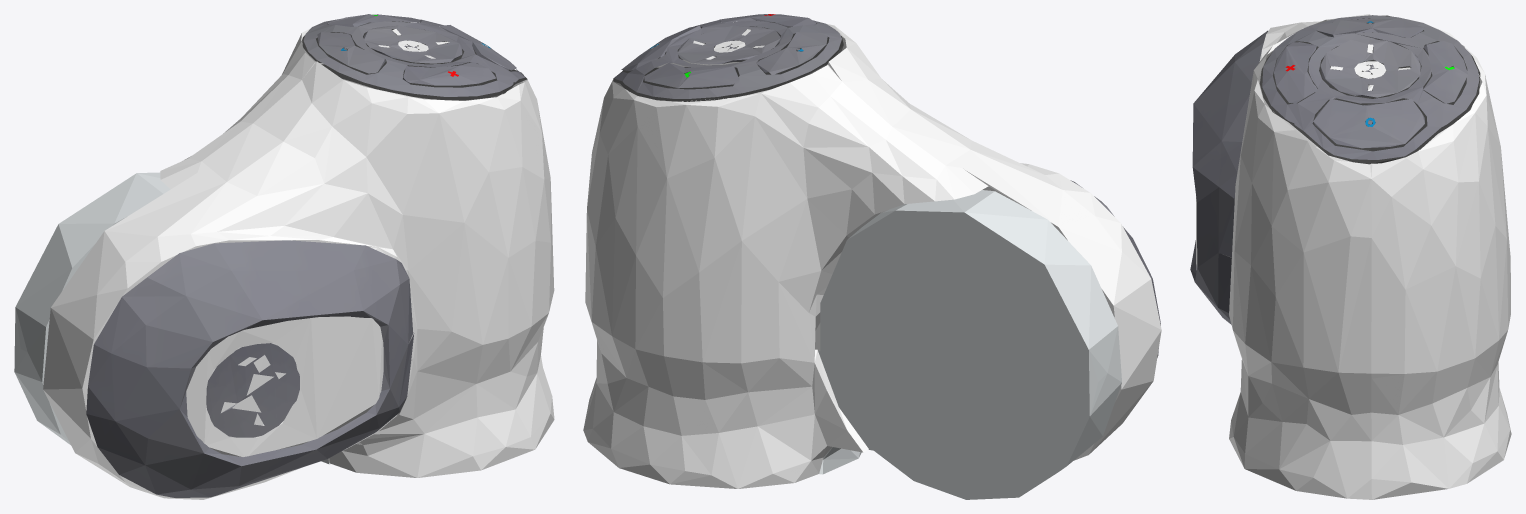
The picture shows the model from 3 angles, left to right: view 1: azimuth 30°, elevation 25°; view 2: azimuth 150°, elevation 25°; view 3: azimuth 270°, elevation 25°; orthographic projection. The views are drawn at different scales.
Parts seen in each view (by area): view 1: node6_Shell.003; view 2: node6_Shell.003; view 3: node6_Shell.003.
Part boxes in pixels (left/top/right/bottom): node6_Shell.003: left=14, top=14, right=554, bottom=499; node6_Shell.003: left=583, top=14, right=1161, bottom=499; node6_Shell.003: left=1190, top=14, right=1511, bottom=499.
Size of the model in its own units: 0.1802 by 0.1329 by 0.1006.
